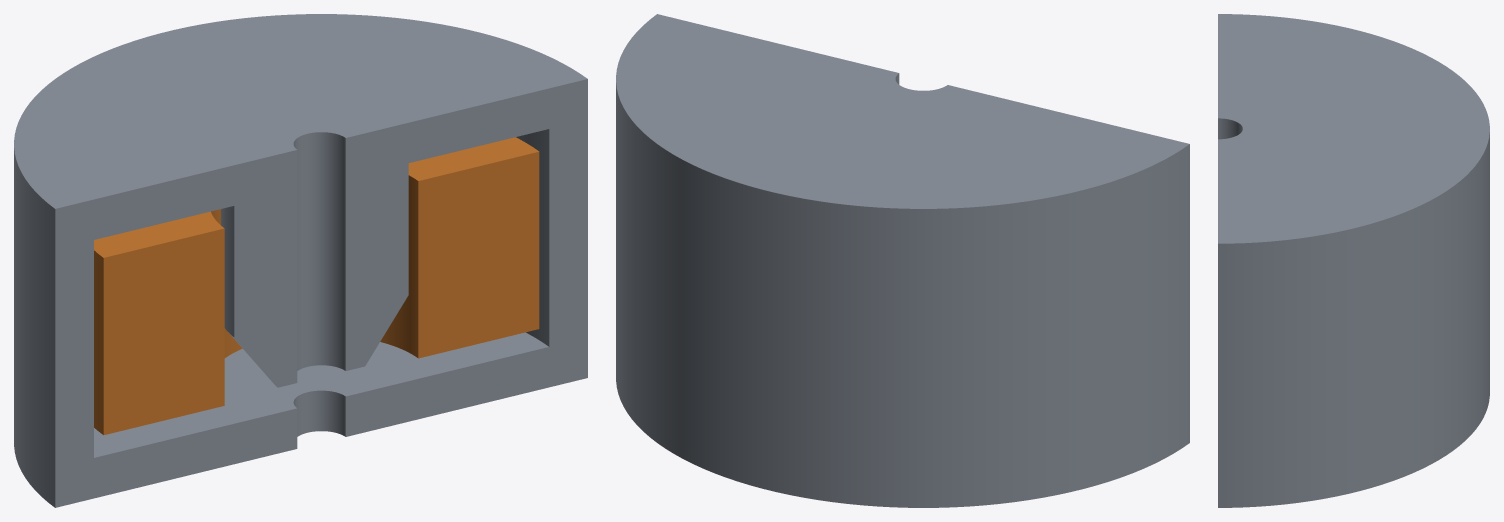
The model's file is condenser-section.glb.
3 renders of one model, left to right at view 1: azimuth 30°, elevation 25°; view 2: azimuth 150°, elevation 25°; view 3: azimuth 270°, elevation 25°, orthographic. The views are drawn at different scales.
Visible parts, largest first — view 1: condenser-upper-pole, condenser-coil, condenser-lower-pole, condenser-shell-ring; view 2: condenser-shell-ring, condenser-upper-pole, condenser-lower-pole; view 3: condenser-upper-pole, condenser-shell-ring, condenser-lower-pole.
Boxes of the visible parts, box(x1,y1,x2,y2) form: condenser-upper-pole: box(14, 14, 587, 387); condenser-coil: box(94, 137, 539, 435); condenser-lower-pole: box(14, 332, 587, 507); condenser-shell-ring: box(14, 119, 587, 467); condenser-shell-ring: box(616, 123, 1189, 467); condenser-upper-pole: box(616, 14, 1189, 249); condenser-lower-pole: box(616, 341, 1189, 507); condenser-upper-pole: box(1218, 14, 1489, 279); condenser-shell-ring: box(1218, 168, 1489, 471); condenser-lower-pole: box(1218, 360, 1489, 507).
Bounding box in the file's own units: 110 × 59 × 54.98.
